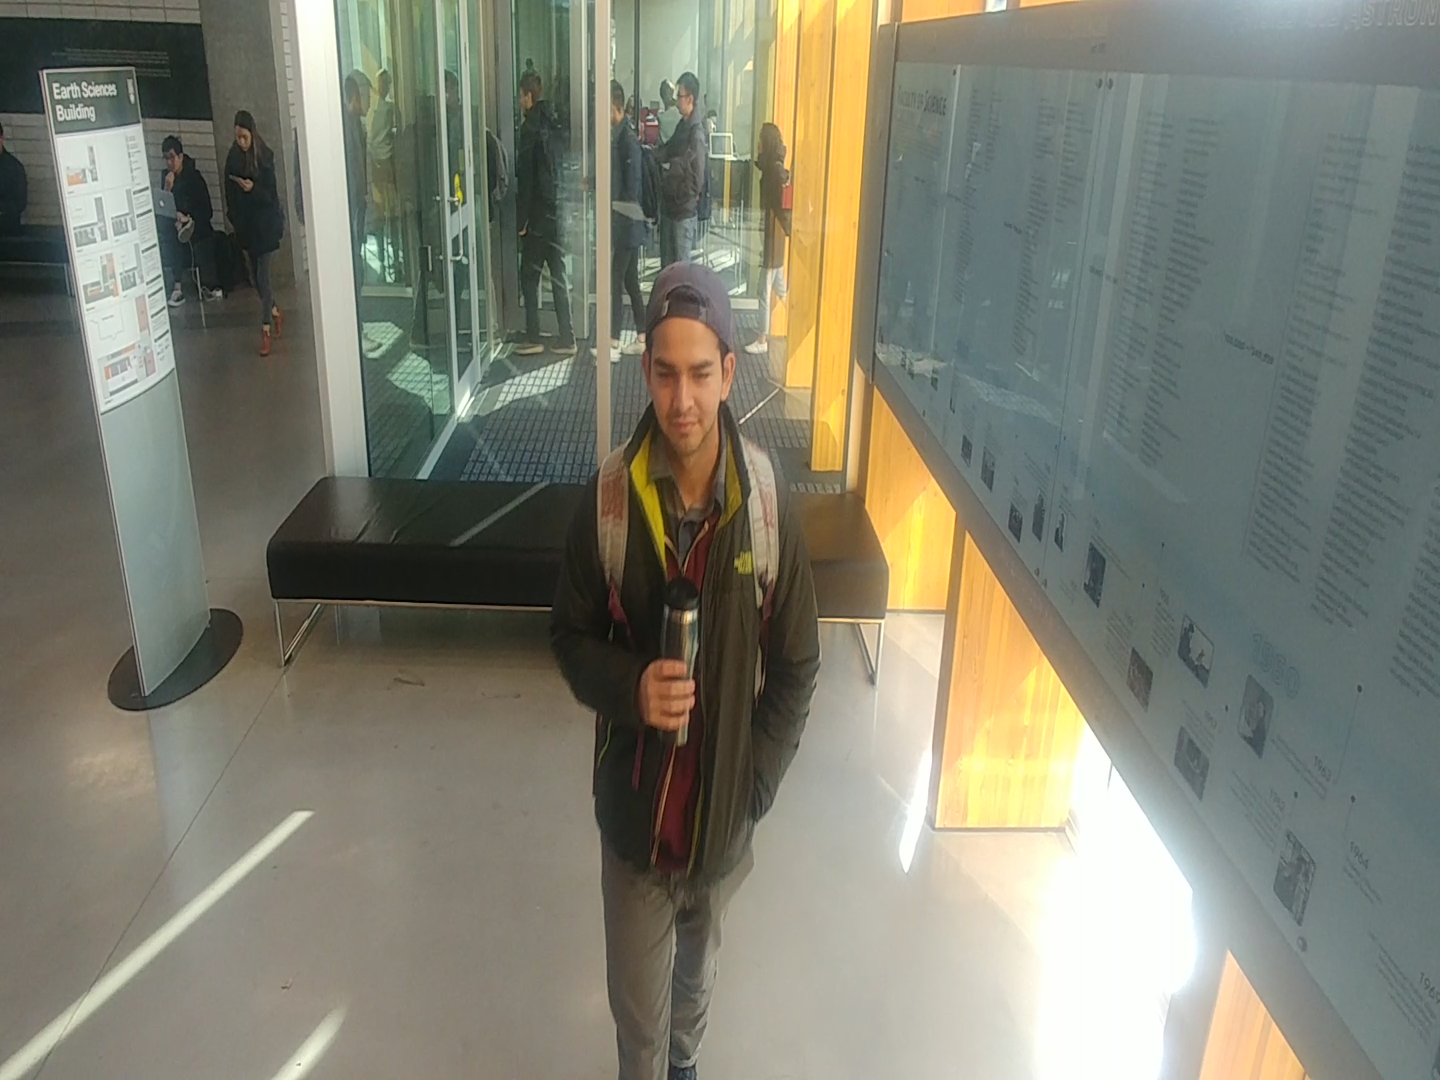face: (634, 254, 747, 466), (505, 53, 555, 119), (741, 110, 790, 164), (150, 129, 198, 179), (224, 105, 264, 160), (667, 63, 704, 119)
human: (542, 256, 835, 1080), (504, 56, 586, 374), (215, 99, 296, 377), (737, 113, 801, 364), (144, 129, 230, 307), (609, 70, 658, 361), (661, 57, 712, 260)
